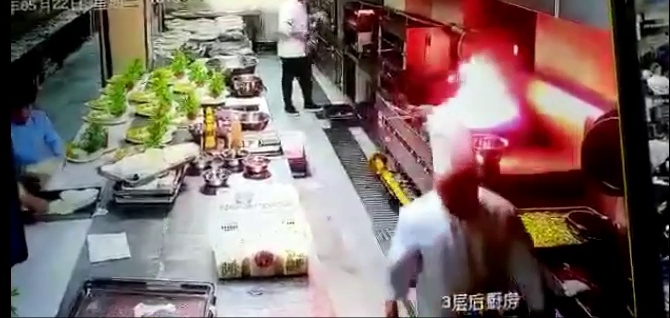fire: (437, 52, 526, 133)
